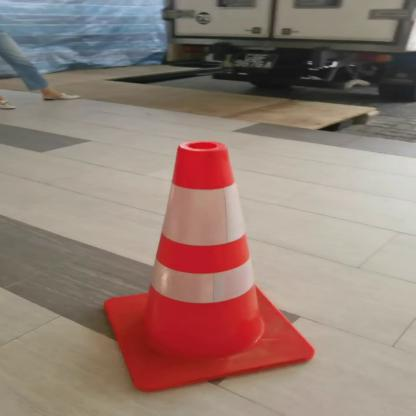cone: (76, 135, 326, 395)
